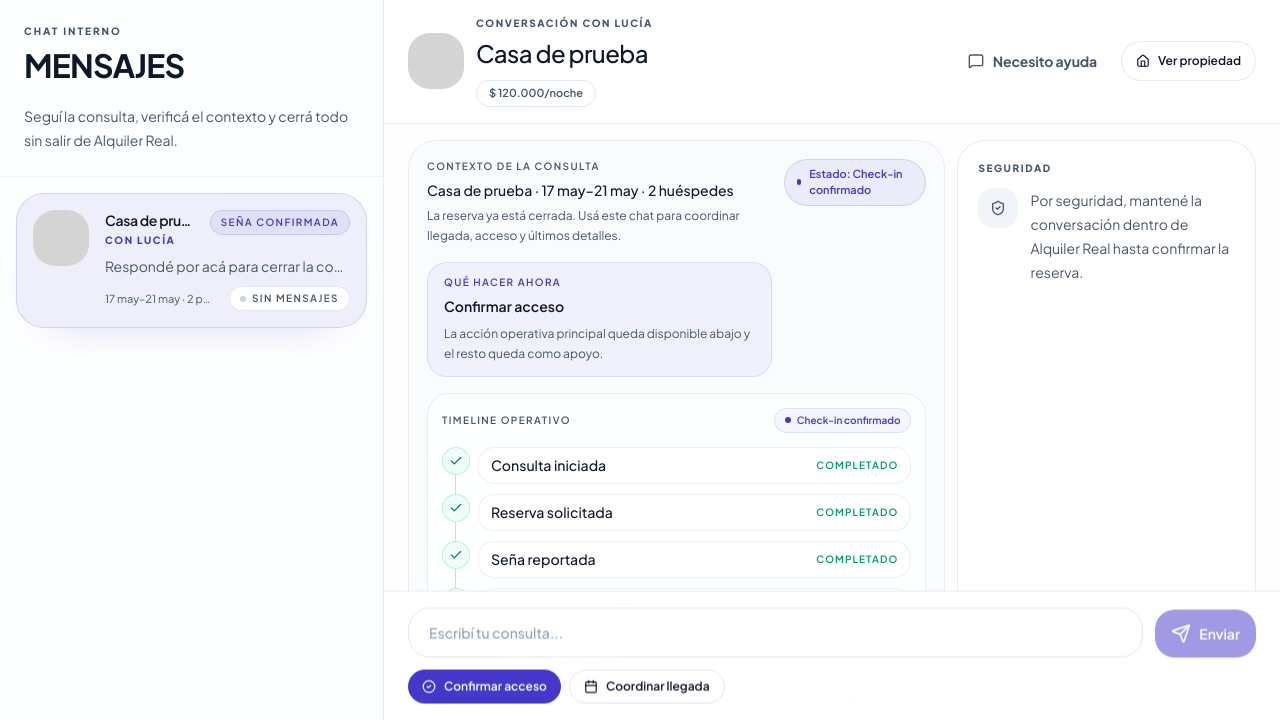
Test: SecureChat › lets the host confirm access after the guest already confirmed the protected check-in
Click the button "Confirmar acceso" at (484, 687), box [408,670,561,704]
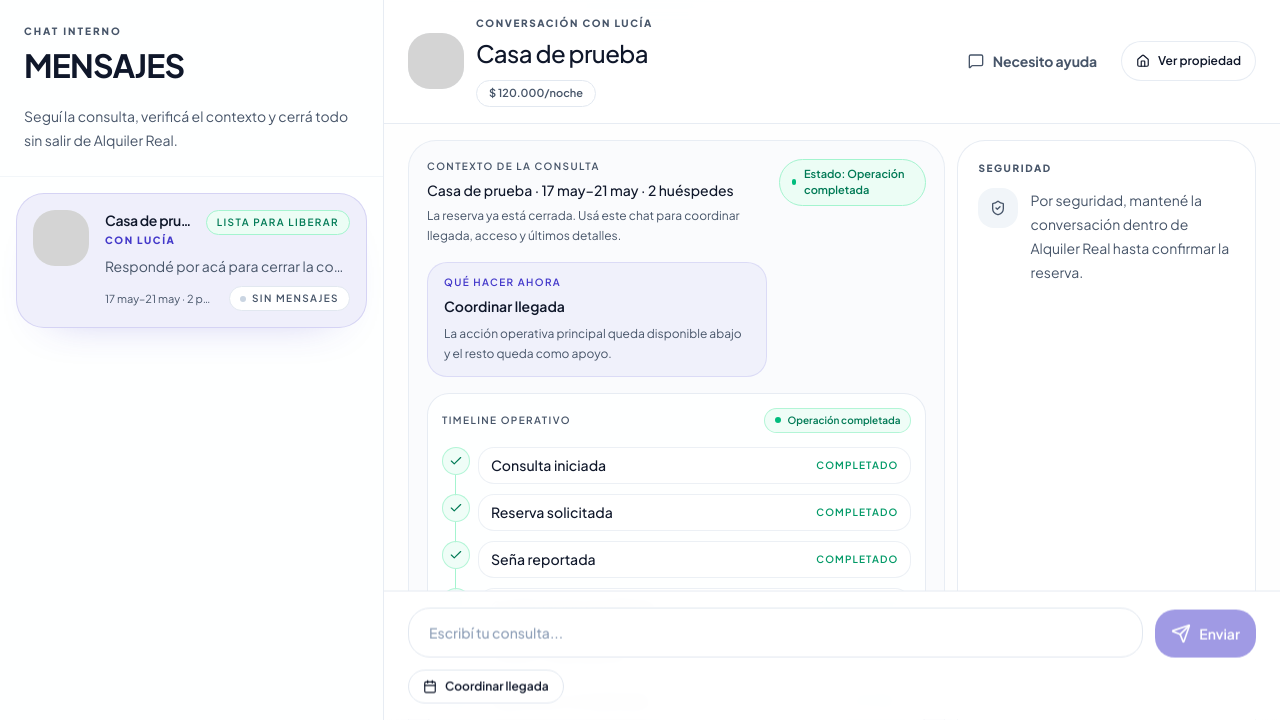
Now the text "Estado: Operación completada" is shown, box [804,166,913,199]
